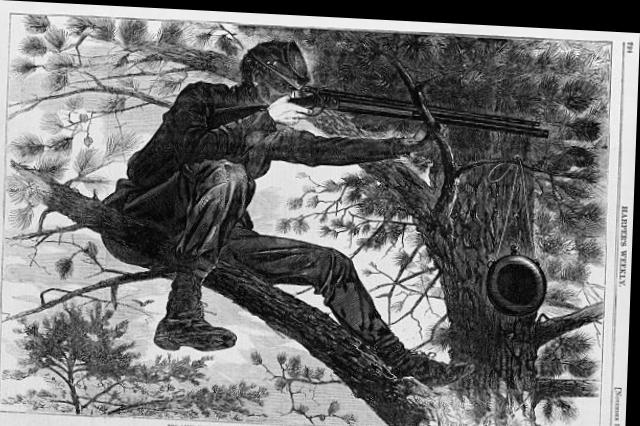other: (130, 23, 363, 354)
